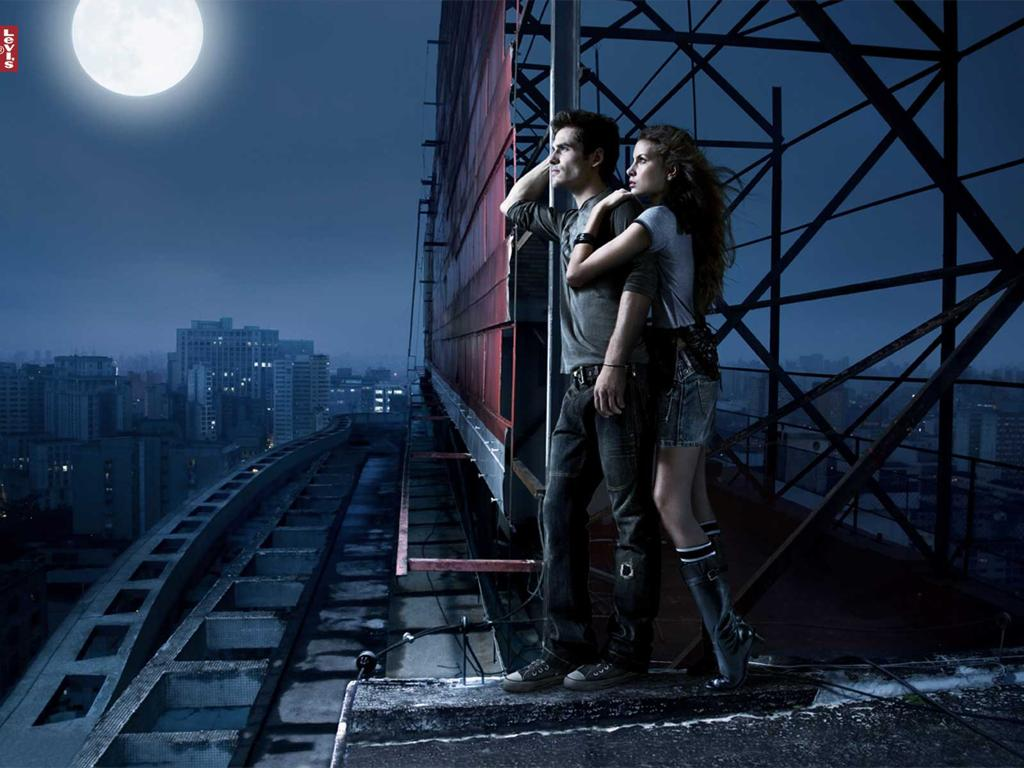face: (548, 125, 587, 187), (626, 139, 660, 193)
